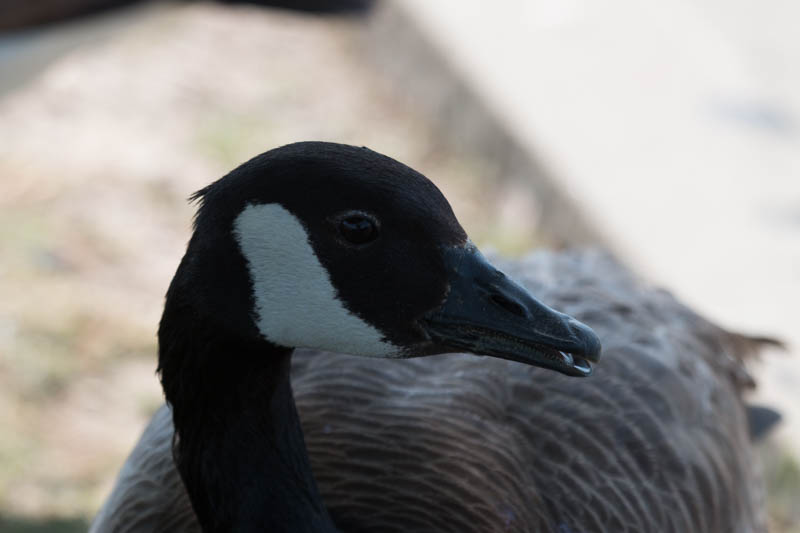goose-head: (158, 141, 603, 378)
